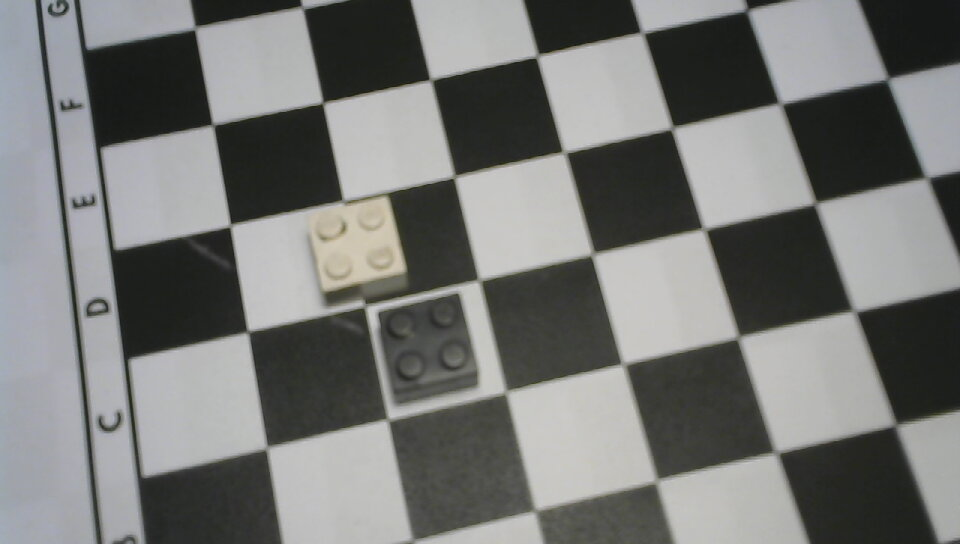bp: (372, 287, 485, 408)
